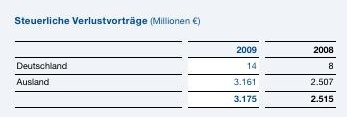table: (0, 0, 347, 117)
